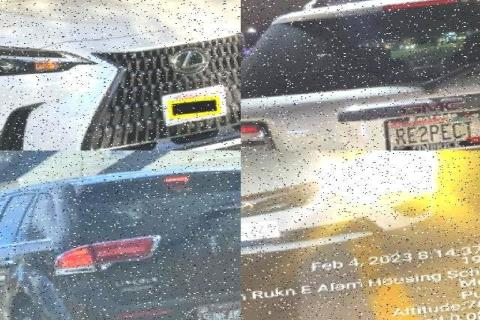LicensePlate: (382, 113, 478, 149), (160, 88, 225, 129), (240, 218, 295, 251), (195, 303, 238, 319)
